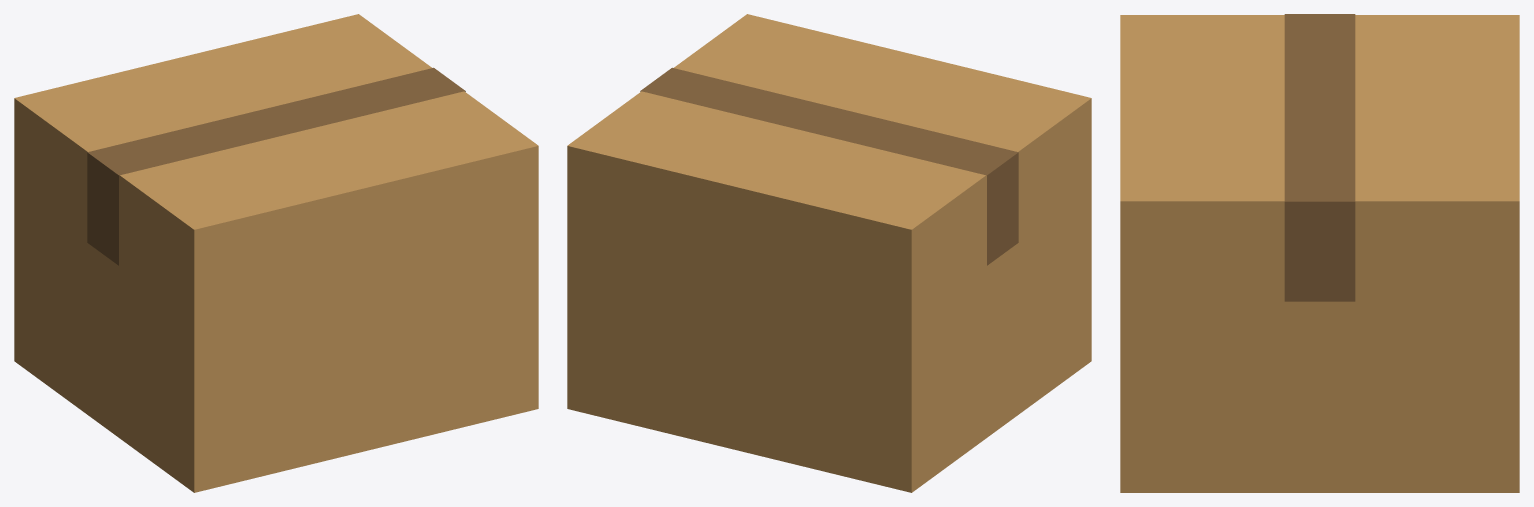
The model's file is Close_Cardboard_Box.fbx.
3 renders of one model, left to right at view 1: azimuth 30°, elevation 25°; view 2: azimuth 150°, elevation 25°; view 3: azimuth 270°, elevation 25°, orthographic. The views are drawn at different scales.
Parts seen in each view (by area): view 1: Cube; view 2: Cube; view 3: Cube.
Part boxes in pixels (left/top/right/bottom): Cube: left=14, top=14, right=538, bottom=492; Cube: left=567, top=14, right=1091, bottom=492; Cube: left=1120, top=14, right=1519, bottom=492.
Size of the model in its own units: 276 by 200 by 248.
